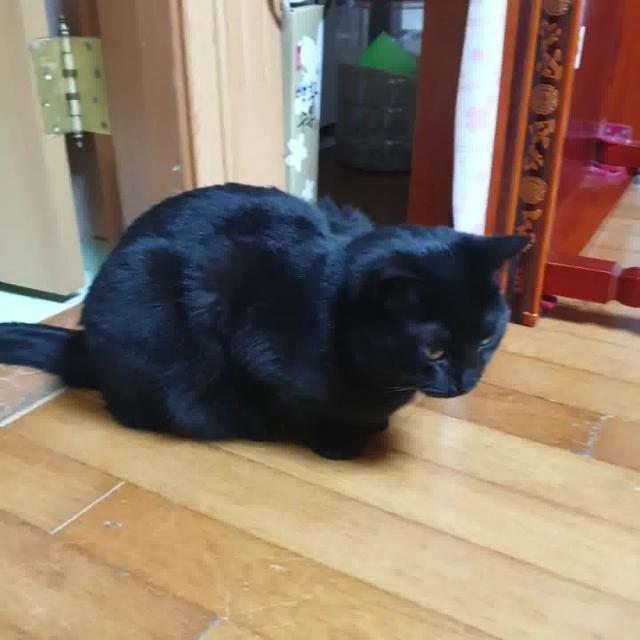cat: (0, 178, 544, 467)
